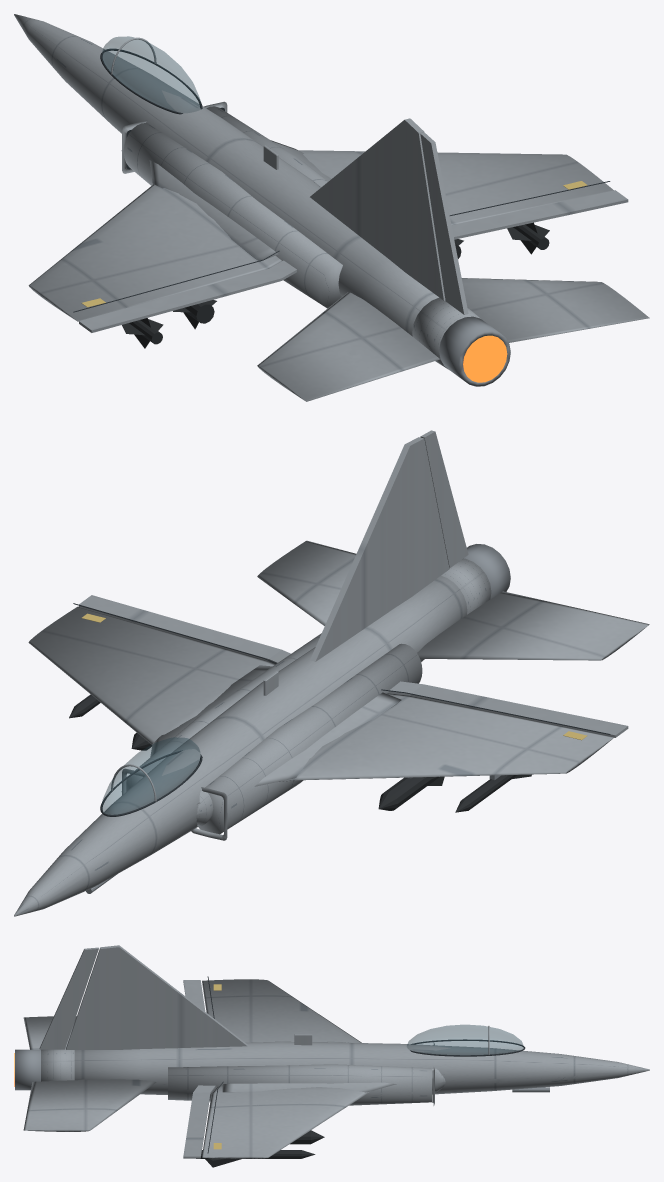
File: wings_jf17.glb
The picture shows the model from 3 angles, top to bottom: view 1: azimuth 30°, elevation 25°; view 2: azimuth 150°, elevation 25°; view 3: azimuth 270°, elevation 25°; orthographic projection. The views are drawn at different scales.
Visible parts, largest first — view 1: airframe_static, tailplane_L, tailplane_R, canopy, elevon_L, rudder_1, elevon_R, afterburner, missile_R2, missile_L2, missile_L1; view 2: airframe_static, tailplane_L, canopy, tailplane_R, elevon_L, elevon_R, rudder_1, missile_L1, missile_L2; view 3: airframe_static, tailplane_R, canopy, rudder_1, elevon_R, tailplane_L, missile_R2, elevon_L.
Part boxes in pixels (x1=…): airframe_static: x1=14, y1=14, x2=613, y2=386; tailplane_L: x1=257, y1=292, x2=439, y2=401; tailplane_R: x1=461, y1=278, x2=649, y2=342; canopy: x1=100, y1=36, x2=202, y2=114; elevon_L: x1=79, y1=260, x2=296, y2=332; rudder_1: x1=420, y1=132, x2=468, y2=314; elevon_R: x1=451, y1=190, x2=628, y2=239; afterburner: x1=463, y1=335, x2=507, y2=382; missile_R2: x1=507, y1=222, x2=549, y2=254; missile_L2: x1=122, y1=318, x2=163, y2=348; missile_L1: x1=173, y1=300, x2=216, y2=329; airframe_static: x1=14, y1=437, x2=614, y2=916; tailplane_L: x1=417, y1=591, x2=649, y2=660; canopy: x1=100, y1=737, x2=202, y2=816; tailplane_R: x1=257, y1=540, x2=356, y2=625; elevon_L: x1=388, y1=681, x2=628, y2=737; elevon_R: x1=79, y1=595, x2=290, y2=664; rudder_1: x1=420, y1=430, x2=468, y2=568; missile_L1: x1=378, y1=776, x2=444, y2=810; missile_L2: x1=455, y1=774, x2=531, y2=812; airframe_static: x1=15, y1=945, x2=649, y2=1158; tailplane_R: x1=23, y1=1079, x2=156, y2=1131; canopy: x1=407, y1=1024, x2=525, y2=1056; rudder_1: x1=39, y1=947, x2=98, y2=1049; elevon_R: x1=183, y1=1085, x2=215, y2=1158; tailplane_L: x1=23, y1=1016, x2=76, y2=1049; missile_R2: x1=196, y1=1150, x2=315, y2=1167; elevon_L: x1=183, y1=980, x2=205, y2=1011.
Bounding box in the file's own units: 9.44 × 4.13 × 14.34.
Materials: 7 (1 with a texture image).
